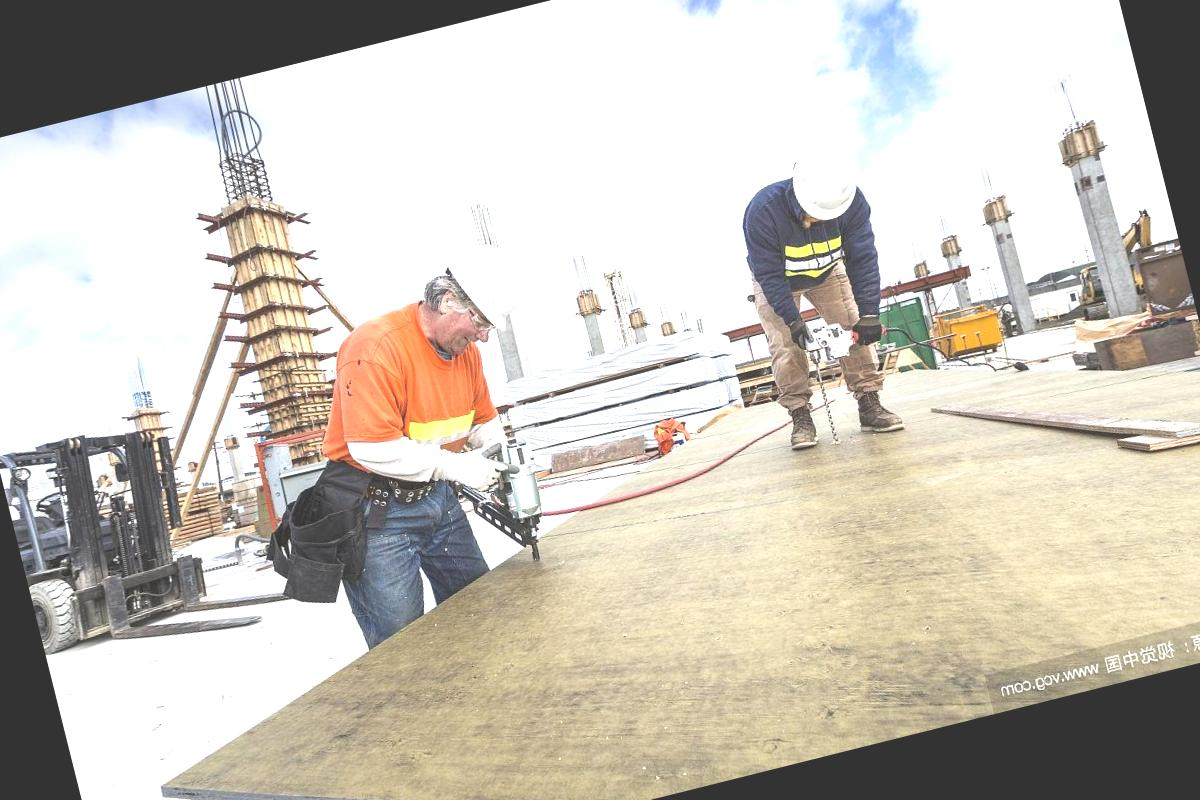helmet: (432, 232, 542, 348), (776, 134, 876, 237)
person: (246, 233, 605, 658), (709, 127, 935, 482)
